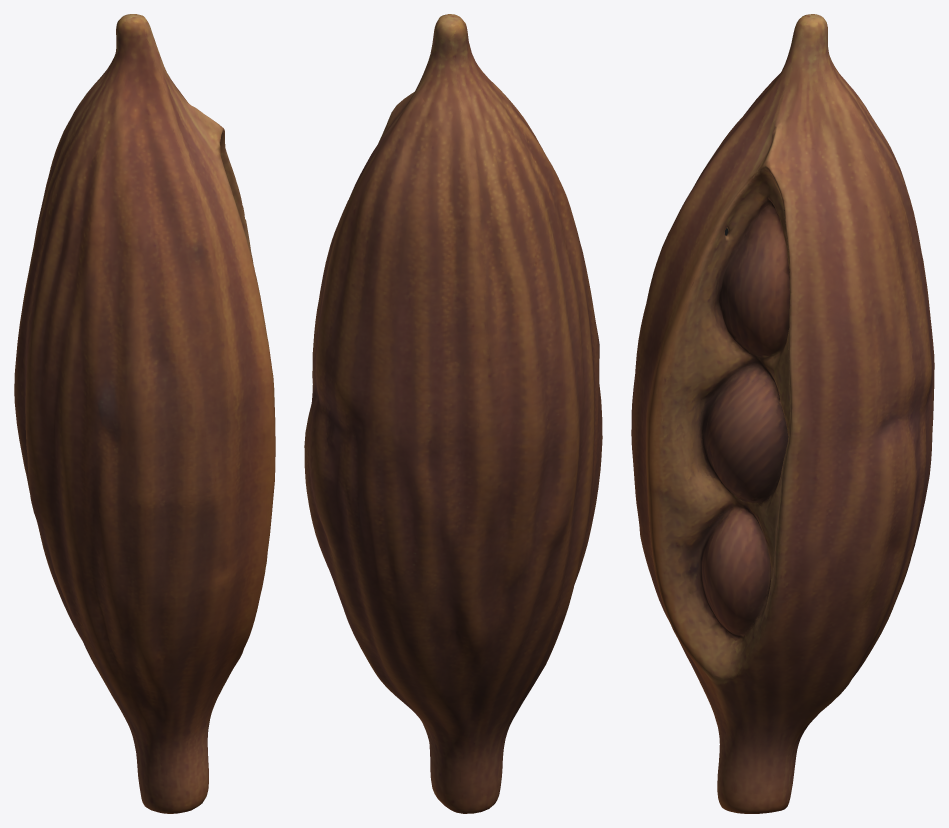
3 renders of one model, left to right at view 1: azimuth 30°, elevation 25°; view 2: azimuth 150°, elevation 25°; view 3: azimuth 270°, elevation 25°, orthographic. The views are drawn at different scales.
Visible parts, largest first — view 1: world; view 2: world; view 3: world.
Part boxes in pixels (x1=…): world: x1=14, y1=14, x2=275, y2=813; world: x1=304, y1=14, x2=602, y2=813; world: x1=631, y1=14, x2=934, y2=813.
Size of the model in its own units: 0.0195 by 0.062 by 0.0216.
1 material, 1 textured.
